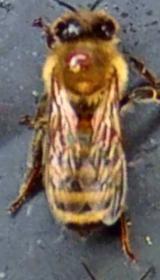varroa_mite: (61, 42, 99, 78)
